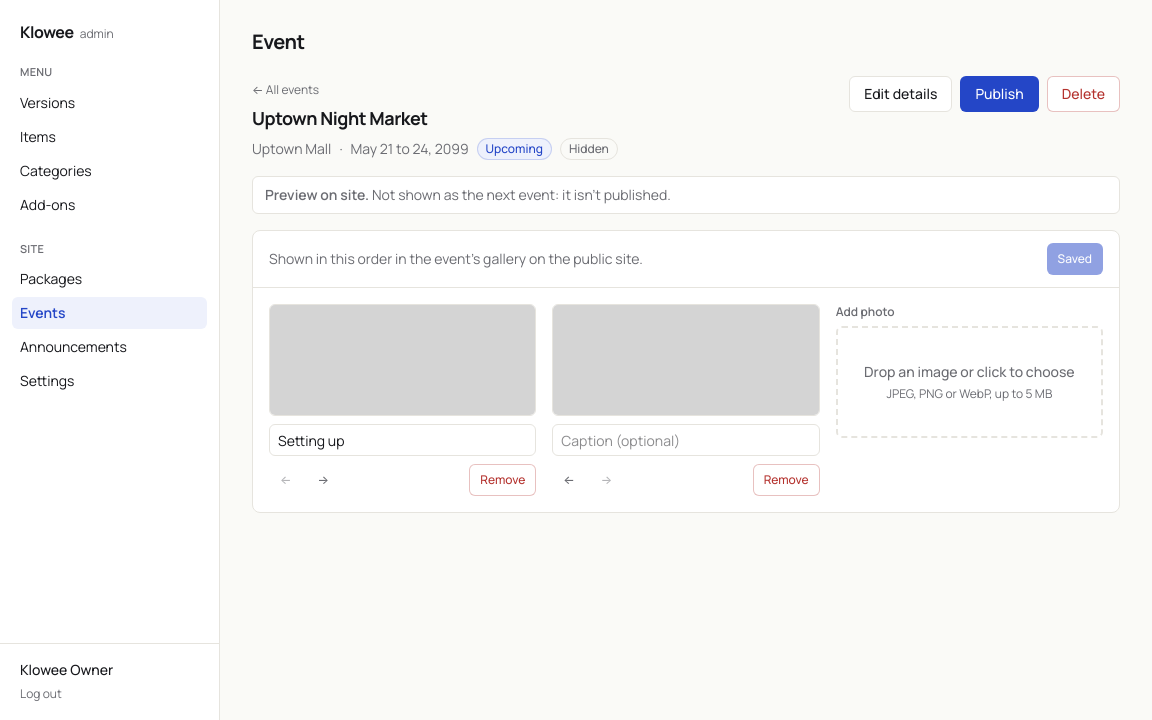
Test: EventDetailPage › saves the reordered photo list in full, with sortOrder from the new positions
The width and height of the screenshot is (1152, 720).
Click the button named "Move photo 2 earlier".
click(569, 480)  # box [552,464,586,496]
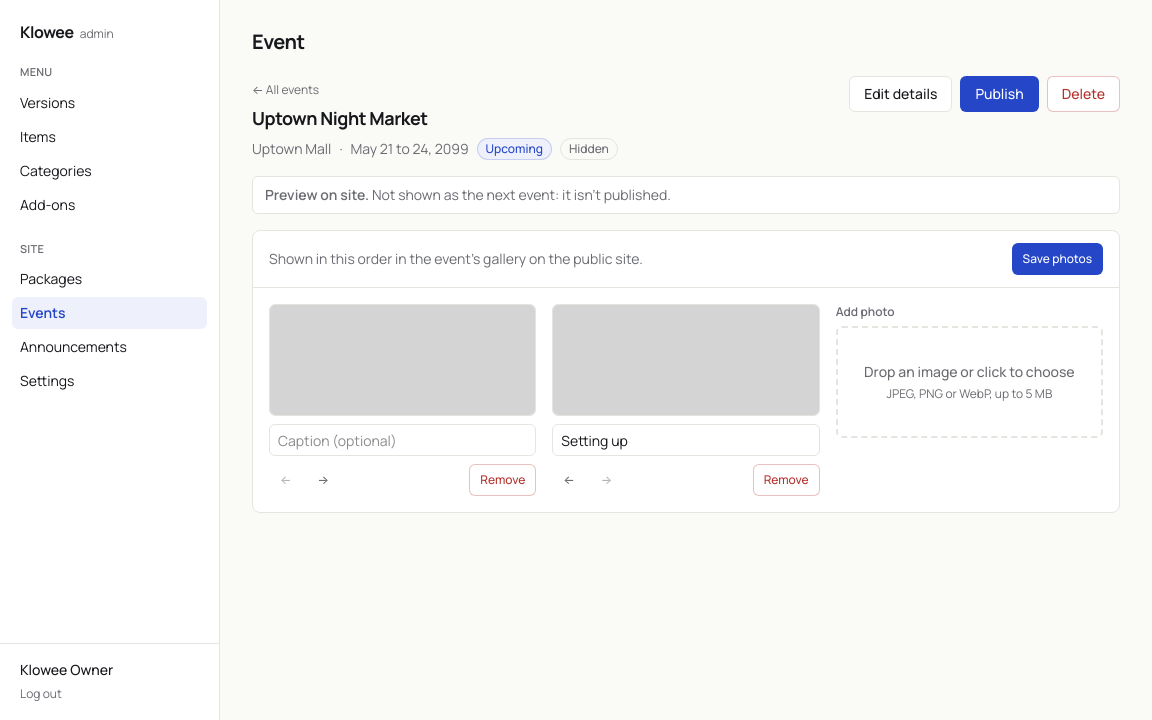
Type "Opening night" into the field named "Caption for photo 1".
click(403, 440); type("Opening night")  # box [269,424,536,456]
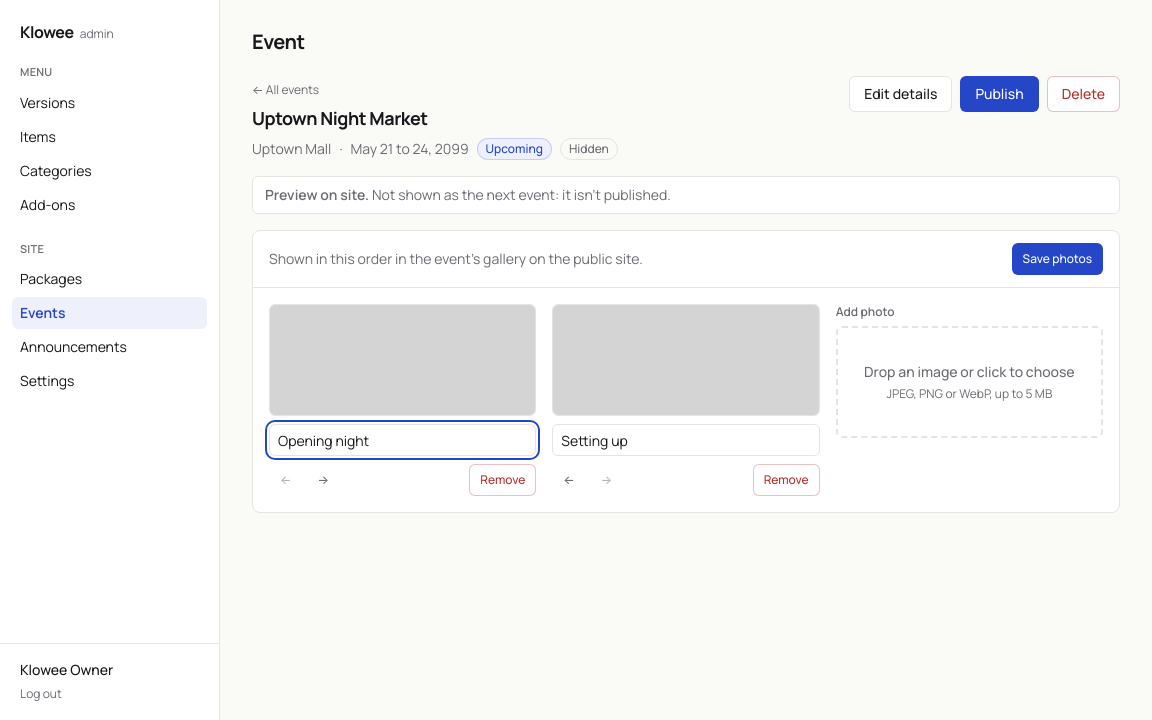
Click the button "Save photos".
click(1057, 259)  # box [1012,243,1103,275]
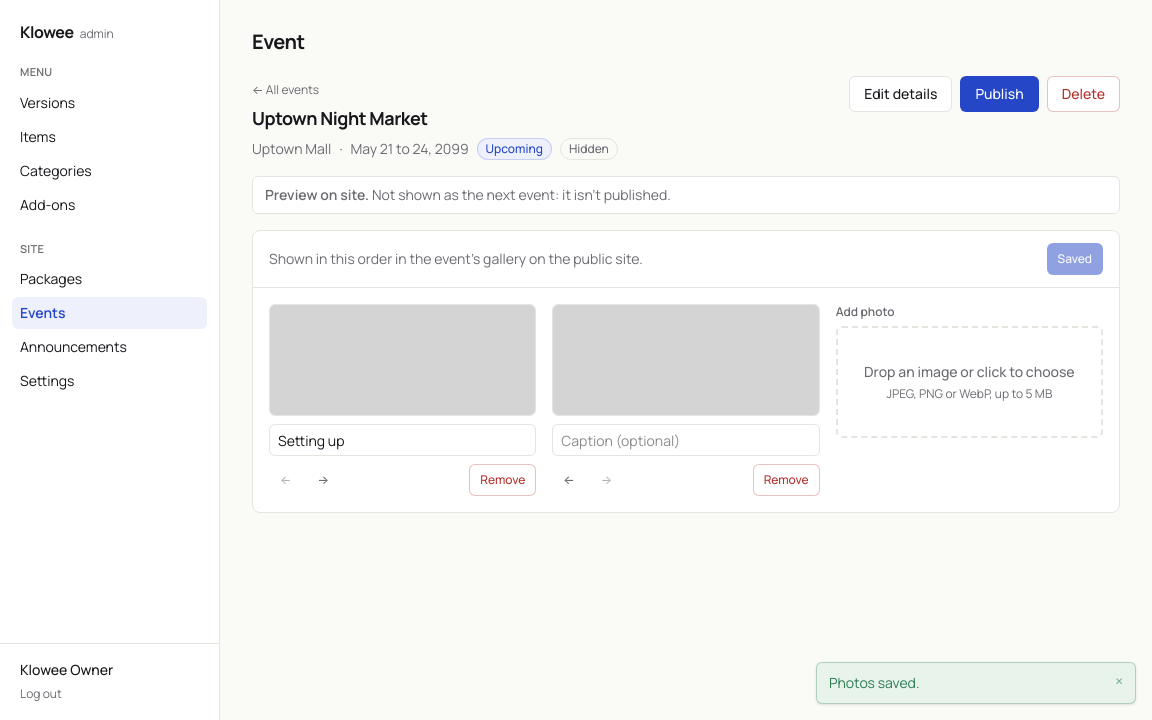
Now the text "Photos saved." is shown, box [829,673,920,692]
